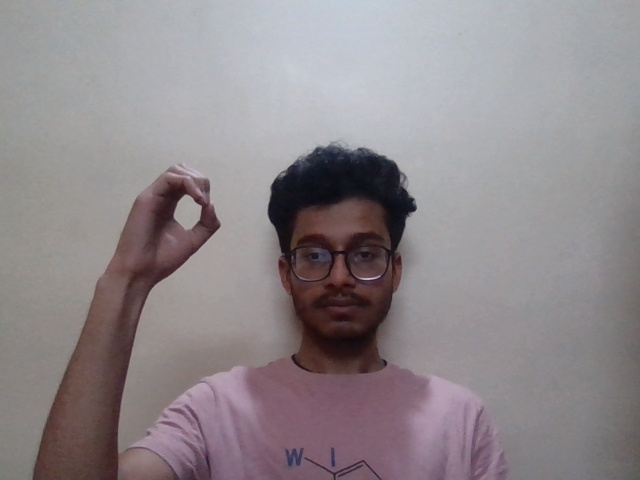O: (100, 161, 232, 284)
